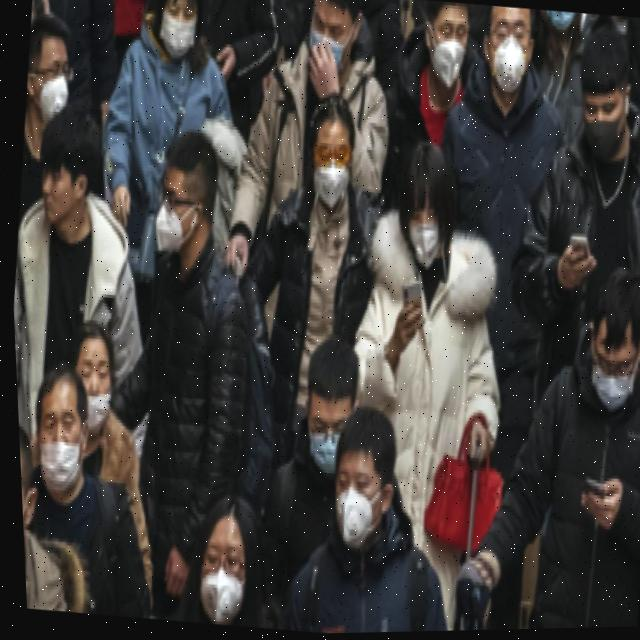Mask: (325, 478, 392, 552), (572, 95, 634, 164), (303, 15, 362, 80), (582, 351, 640, 416), (27, 434, 85, 495), (419, 32, 471, 94), (187, 570, 240, 627), (482, 35, 535, 90), (149, 203, 201, 255), (397, 221, 449, 272), (304, 157, 352, 211), (154, 5, 201, 60), (22, 70, 69, 120), (300, 431, 343, 474), (74, 386, 110, 436), (17, 491, 32, 569), (541, 12, 577, 31)
